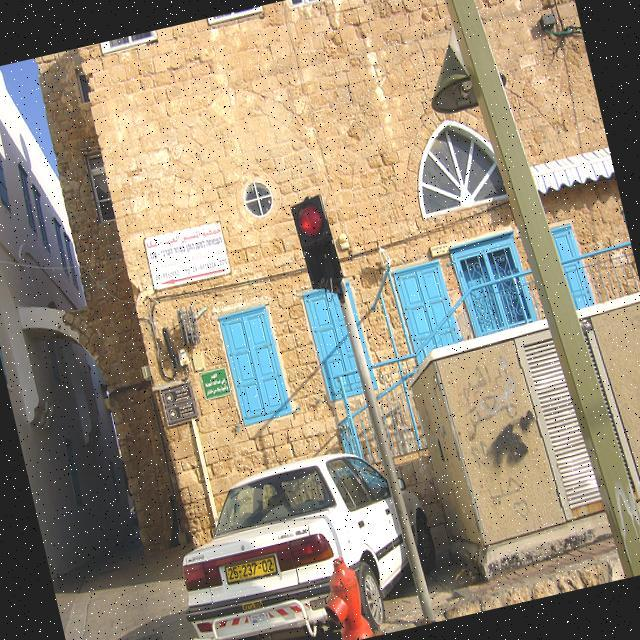fire_hydrant: (313, 551, 373, 640)
